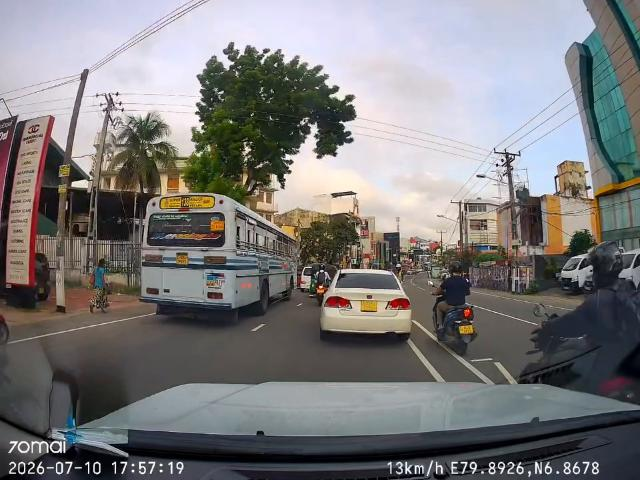illegal overtaking: (417, 255, 478, 359)
number plate: (455, 318, 478, 339)
